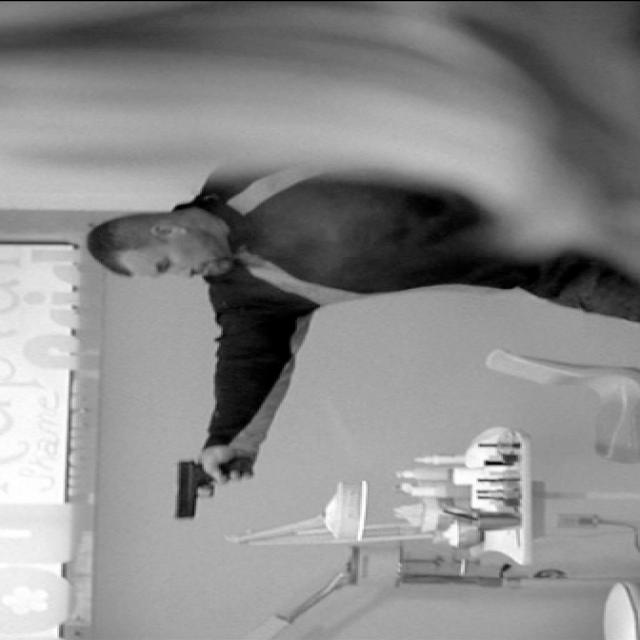weapons: (148, 435, 298, 531)
